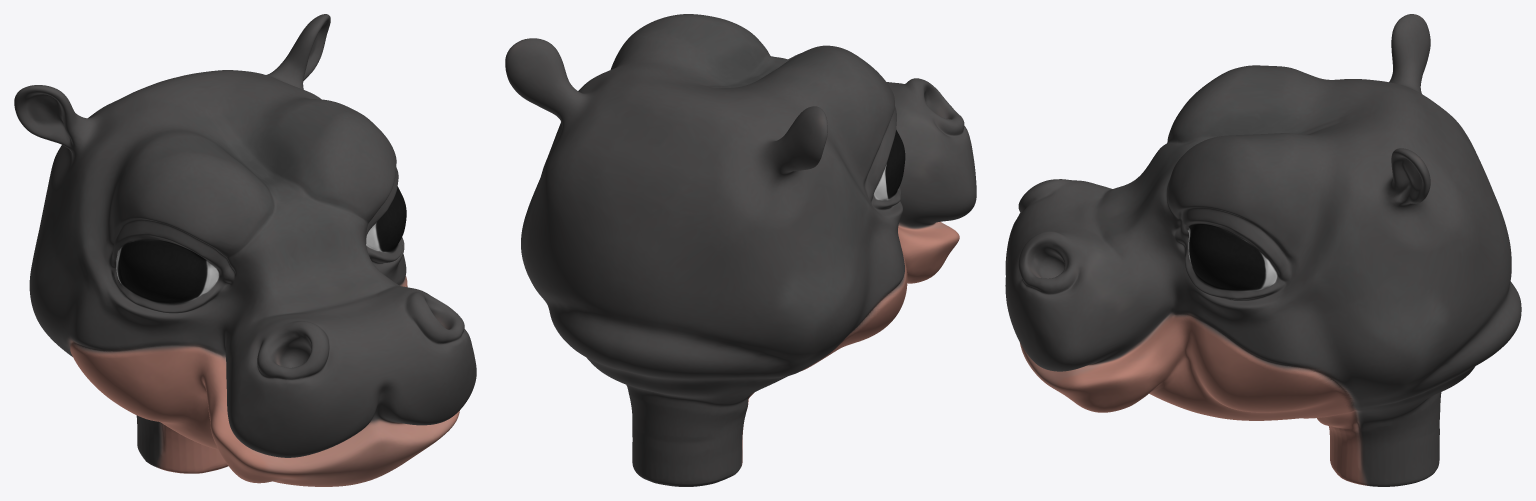
The model's file is Tete_Hippopotame.glb.
3 renders of one model, left to right at view 1: azimuth 30°, elevation 25°; view 2: azimuth 150°, elevation 25°; view 3: azimuth 270°, elevation 25°, orthographic. The views are drawn at different scales.
Visible parts, largest first — view 1: Tete_Hippopotame; view 2: Tete_Hippopotame; view 3: Tete_Hippopotame.
Part boxes in pixels (box(x1,y1,x2,y2)): Tete_Hippopotame: box(14, 14, 476, 486); Tete_Hippopotame: box(505, 14, 976, 486); Tete_Hippopotame: box(1005, 14, 1521, 486).
Bounding box in the file's own units: 3.95 × 4.59 × 5.59.
